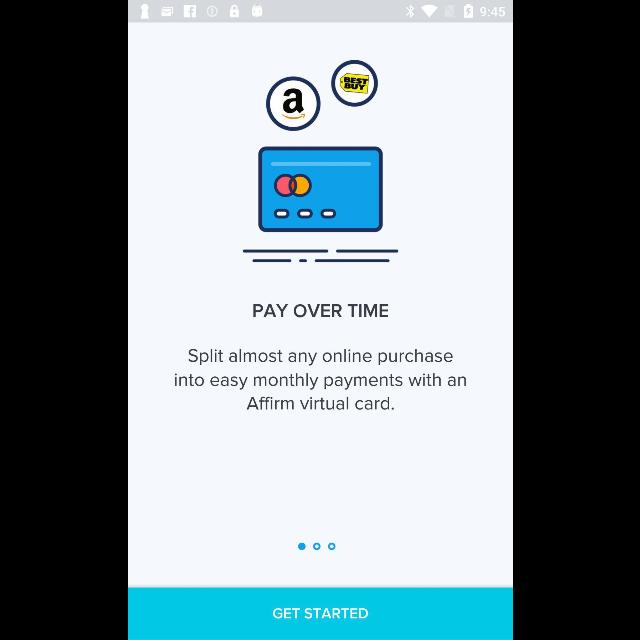image: (240, 59, 398, 263)
pageindicator: (297, 542, 335, 550)
text: (172, 348, 466, 412), (252, 304, 388, 318)
textbutton: (128, 588, 512, 640)
uppertaskbar: (128, 1, 512, 23)
